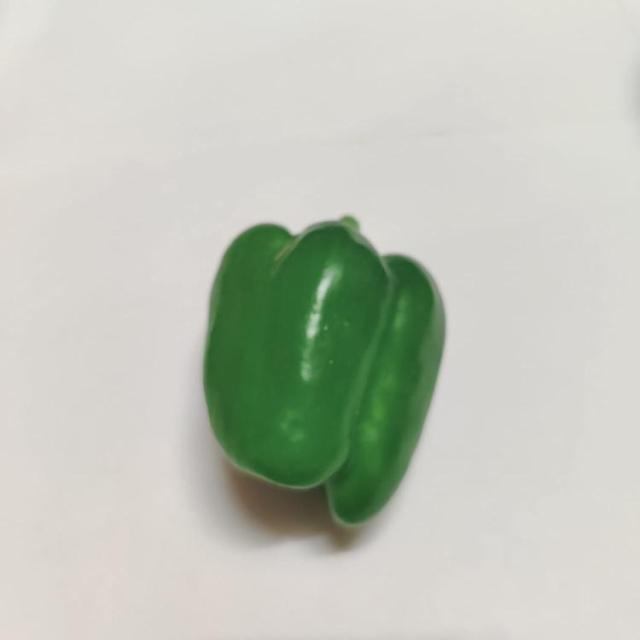Organik: (202, 214, 448, 535)
